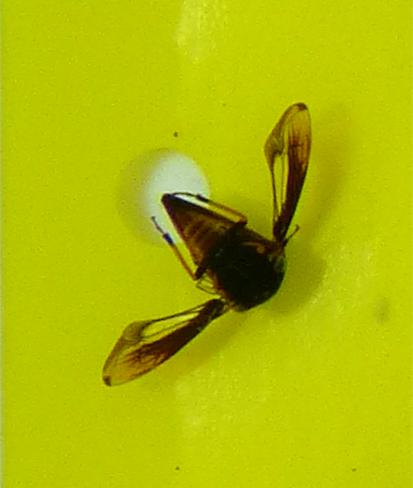Hemiptera: (100, 100, 313, 388)
